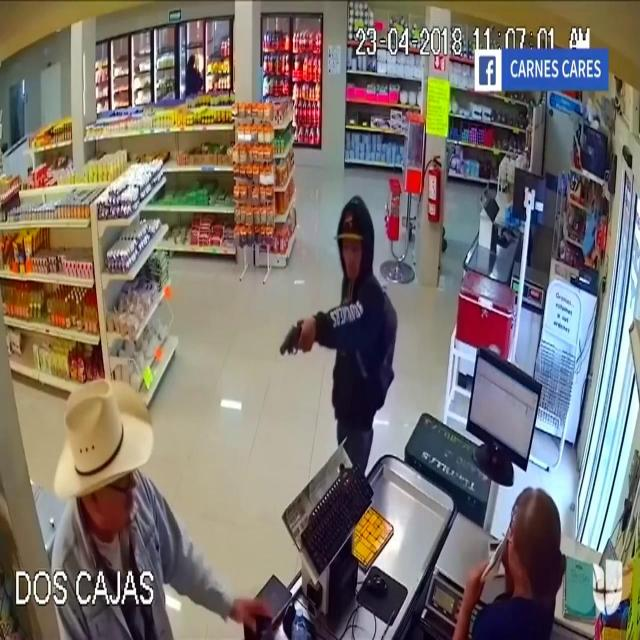gun: (268, 304, 314, 376)
